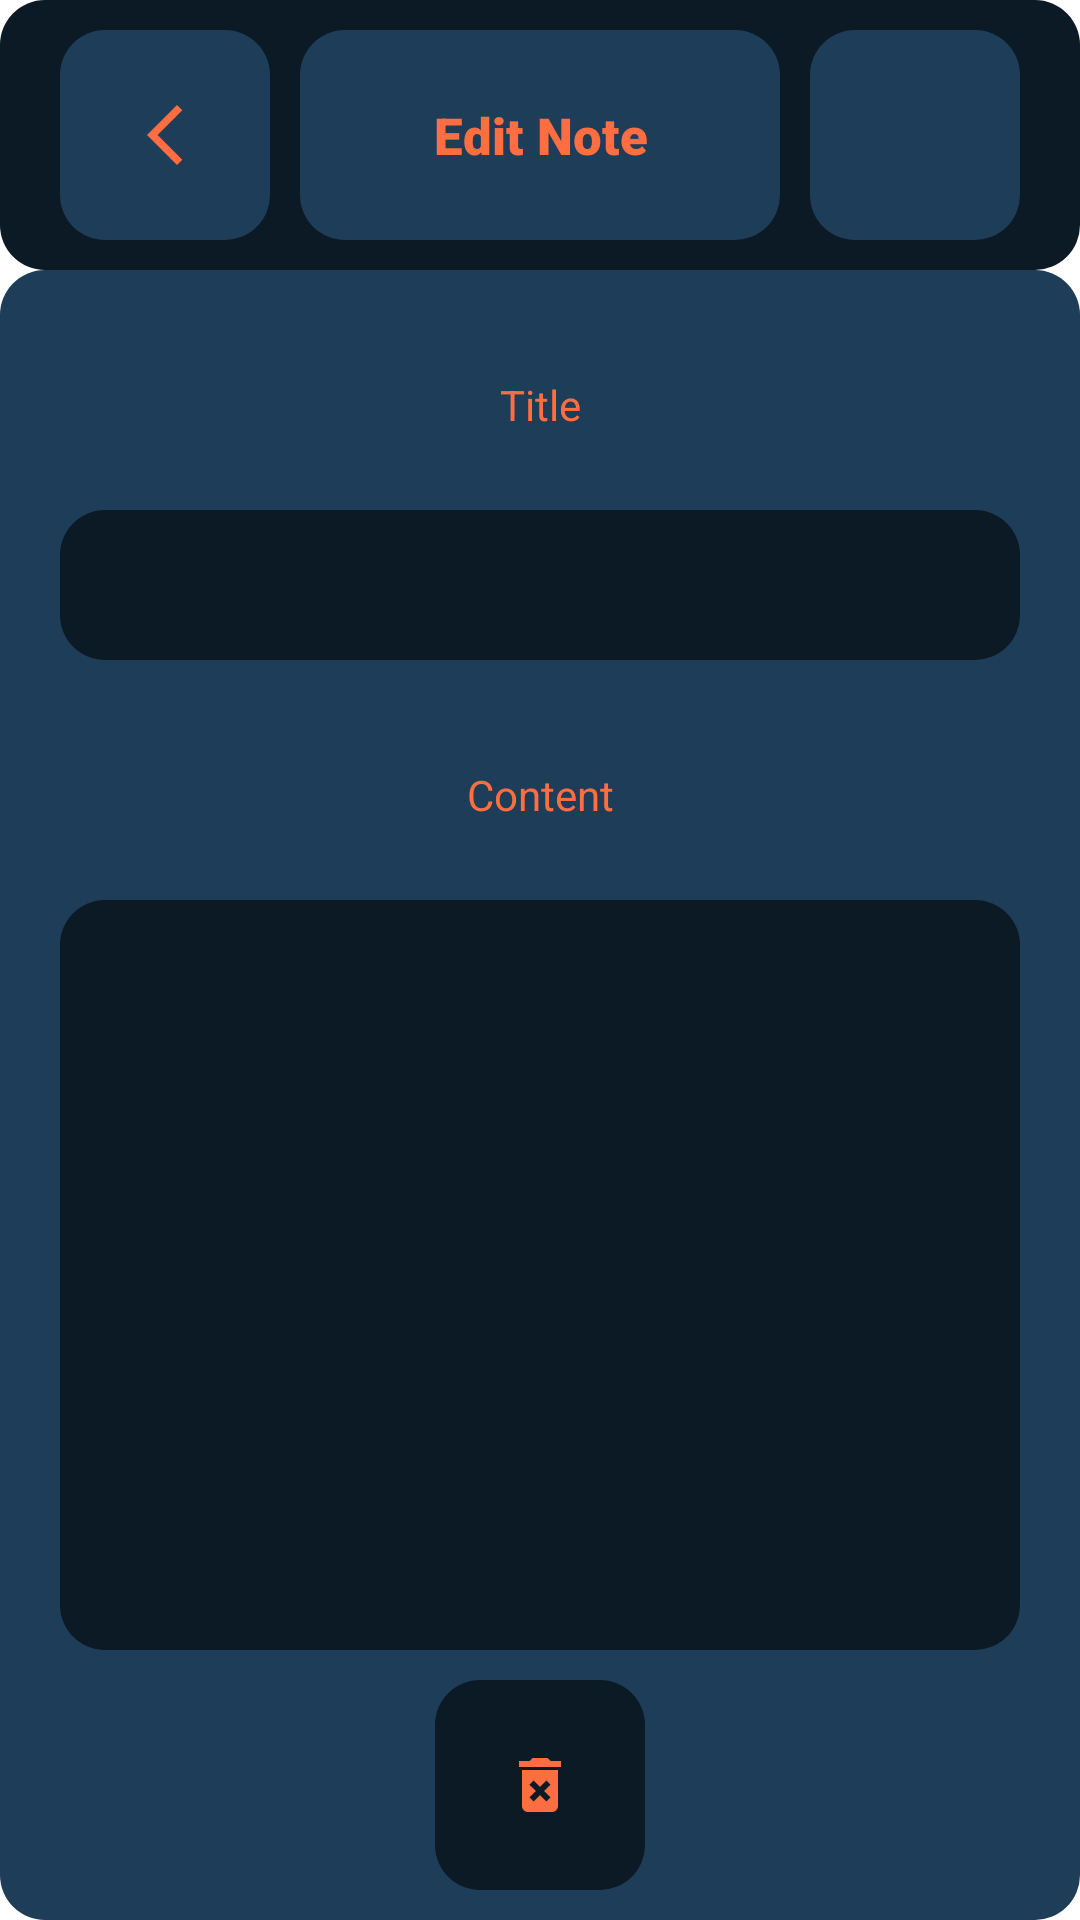

Named icons in this screenshot (1080px x 1920px) and their bounding boxes, [x1, y1, x2, y2]:
back: [60, 30, 270, 240]
delete forever: [435, 1680, 645, 1890]
